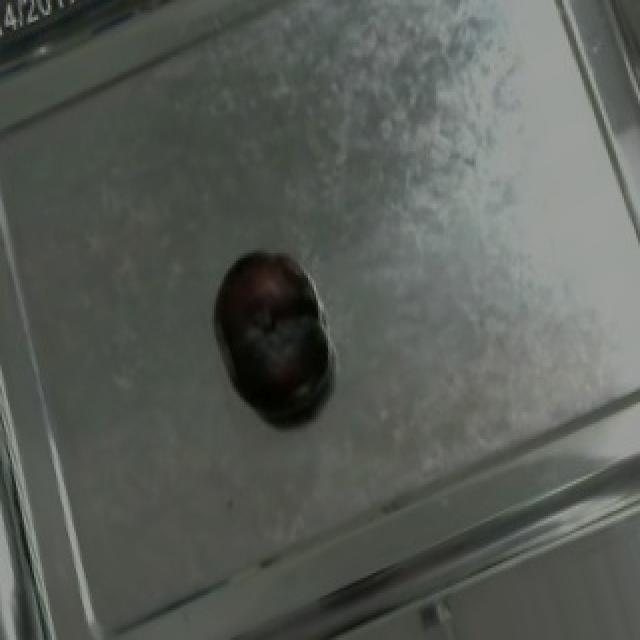Fruit: (196, 230, 342, 422)
